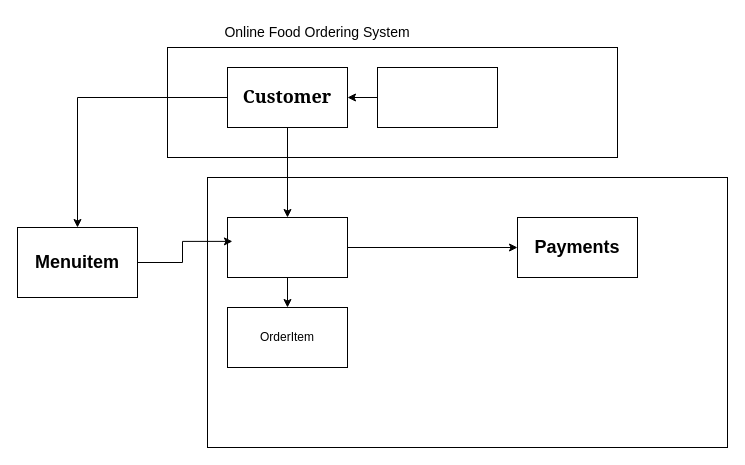
This 745x465 diagram has some shape labels left out. The box of each missing label's shape, as (x1, y1, x2, y2) in pixels:
Delivery Address: (376, 66, 498, 128)
Orders: (226, 216, 348, 278)
